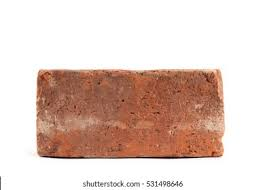brick: (37, 68, 224, 157)
